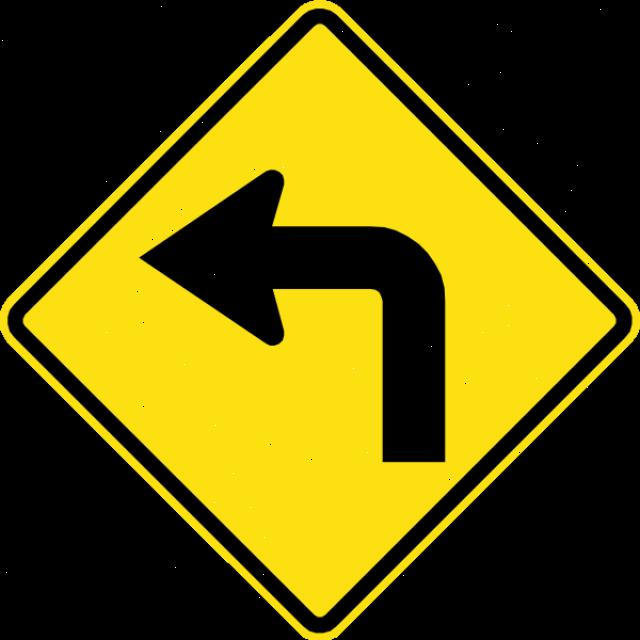left: (138, 166, 474, 466)
